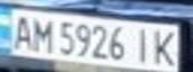2: (90, 21, 112, 61)
5: (54, 18, 75, 56)
6: (106, 24, 130, 62)
9: (72, 20, 93, 58)
A: (6, 11, 36, 51)
I: (130, 25, 157, 65)
K: (148, 26, 181, 66)
M: (27, 15, 57, 53)
